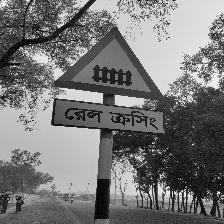Rail-crossing: (52, 27, 168, 136)
